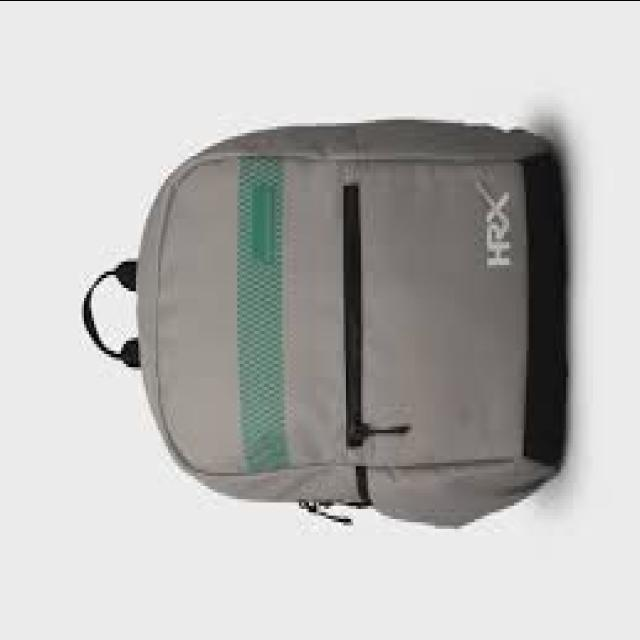backpack: (80, 120, 567, 532)
